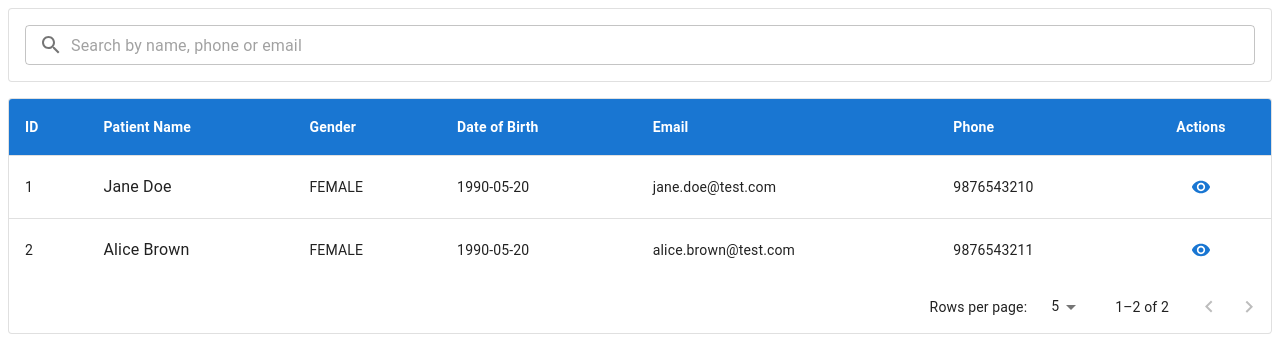
PatientTable › should filter patients by name, email or phone
Type "alice.brown" into the field with placeholder "Search by name, phone or email" at (663, 45), box [71, 25, 1255, 65]
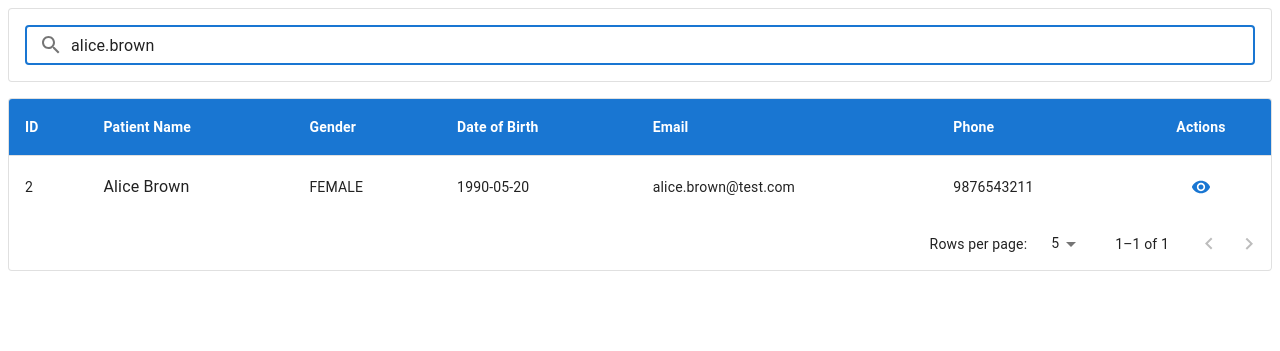
Expected: the text "Alice Brown" is shown, [104, 177, 190, 196]
Expected: the text "Jane Doe" is gone
